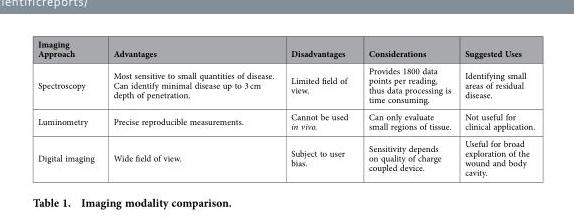table: (37, 37, 534, 178)
table column: (103, 37, 281, 178), (357, 37, 457, 178), (457, 37, 534, 178), (281, 37, 357, 178), (37, 37, 103, 178)
table column header: (37, 37, 534, 61)
table row: (37, 61, 534, 107), (37, 134, 534, 178), (37, 107, 534, 134), (37, 37, 534, 61)
